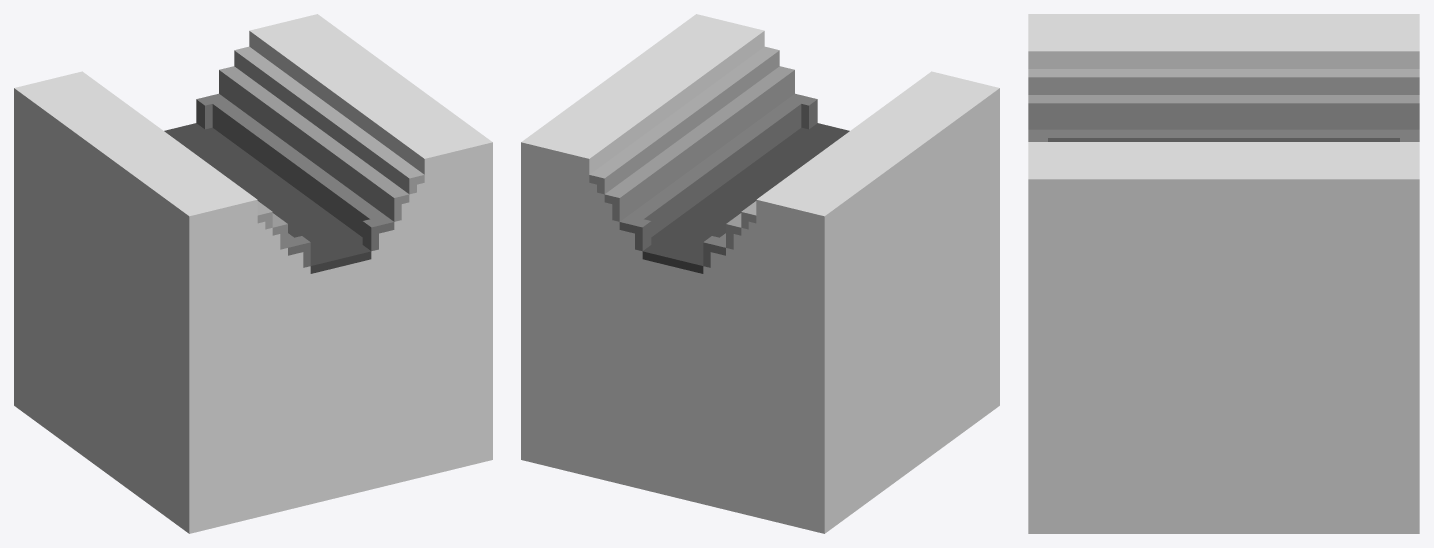
The model's file is MuroTopSimple.FBX.
3 views of the same model, side by side, from view 1: azimuth 30°, elevation 25°; view 2: azimuth 150°, elevation 25°; view 3: azimuth 270°, elevation 25° (orthographic). The views are drawn at different scales.
Parts seen in each view (by area): view 1: MuroTopSimple; view 2: MuroTopSimple; view 3: MuroTopSimple.
Part boxes in pixels (x1,y1,x2,y2): MuroTopSimple: (14,14,492,533); MuroTopSimple: (521,14,999,533); MuroTopSimple: (1028,14,1419,533).
Size of the model in its own units: 1 by 1 by 1.
1 material, 1 textured.
